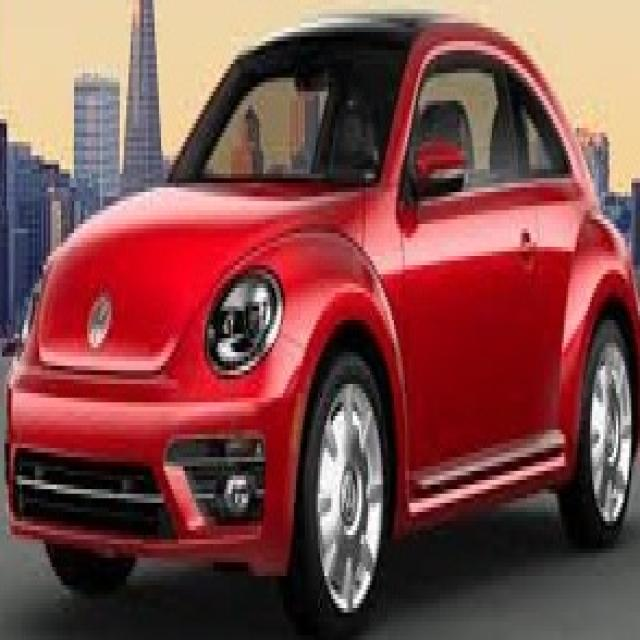red: (17, 29, 640, 557)
